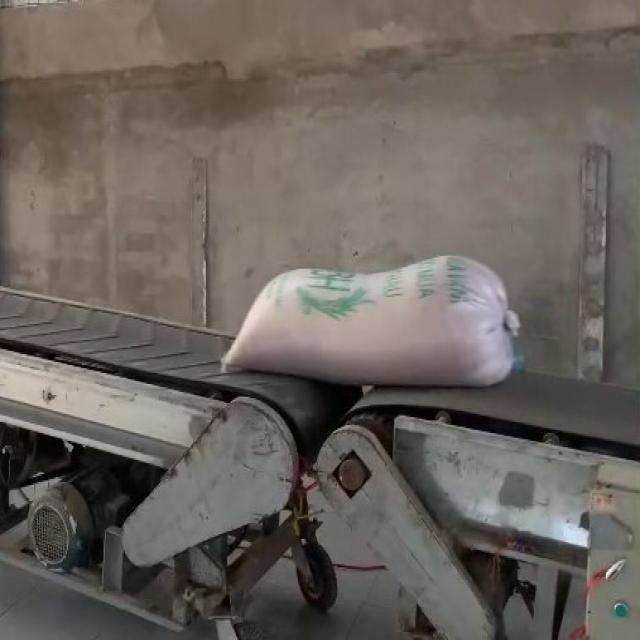gunny_bag: (223, 256, 519, 386)
